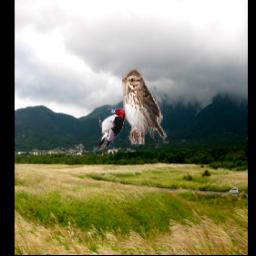Sparrow: (121, 71, 168, 145)
Woodpecker: (97, 109, 126, 149)
